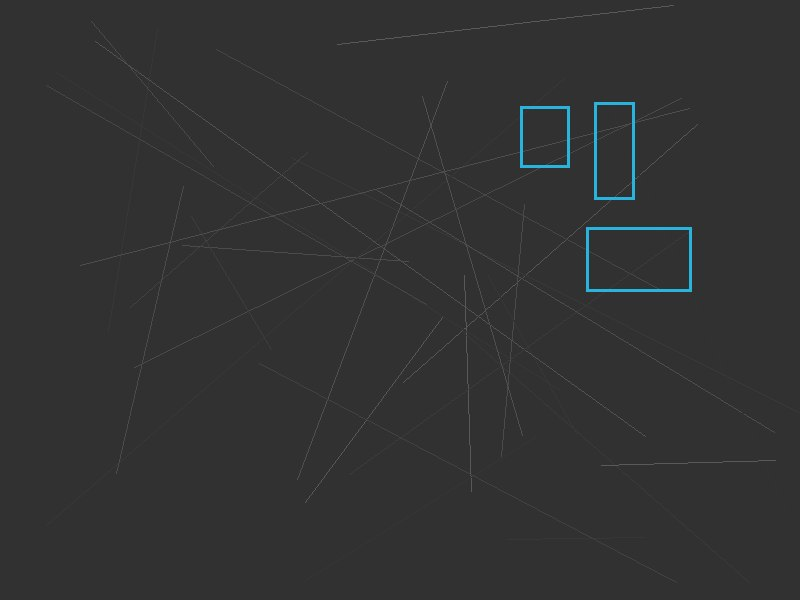D00: (520, 106, 569, 167)
D10: (586, 227, 691, 291), (594, 102, 634, 199)
